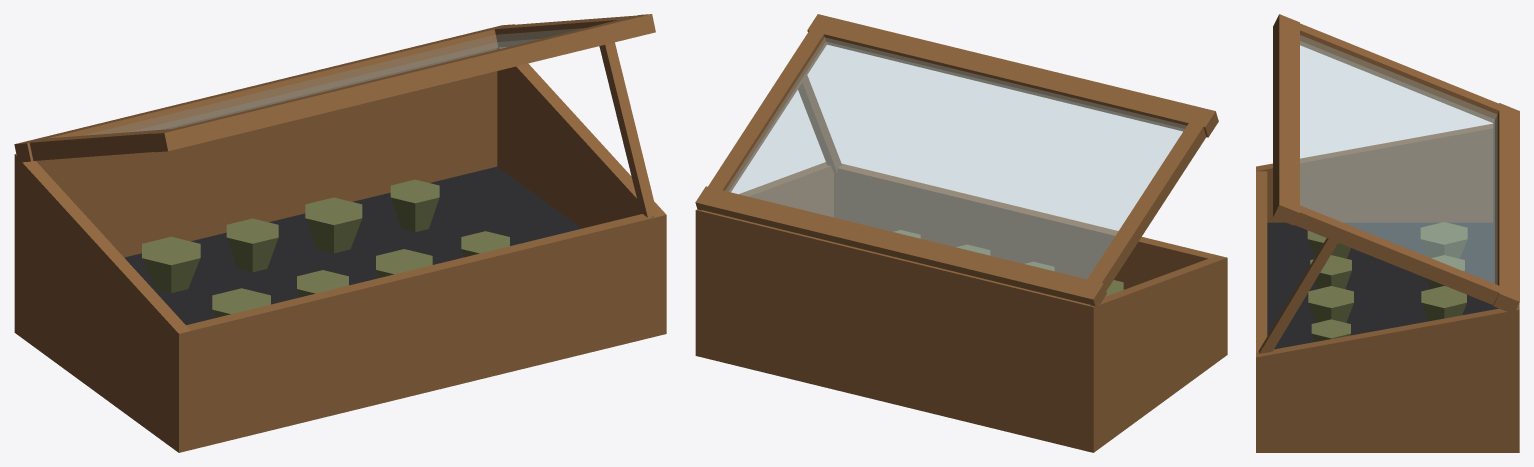
File: FN_Frame_Cold.obj
3 renders of one model, left to right at view 1: azimuth 30°, elevation 25°; view 2: azimuth 150°, elevation 25°; view 3: azimuth 270°, elevation 25°, orthographic. The views are drawn at different scales.
Visible parts, largest first — view 1: FN_Frame_Cold; view 2: FN_Frame_Cold; view 3: FN_Frame_Cold.
Part boxes in pixels (left/top/right/bottom): FN_Frame_Cold: left=14, top=14, right=666, bottom=452; FN_Frame_Cold: left=695, top=14, right=1227, bottom=452; FN_Frame_Cold: left=1256, top=14, right=1519, bottom=452.
Size of the model in its own units: 1.2 by 0.7273 by 0.7013.
Materials: 2 (1 with a texture image).
